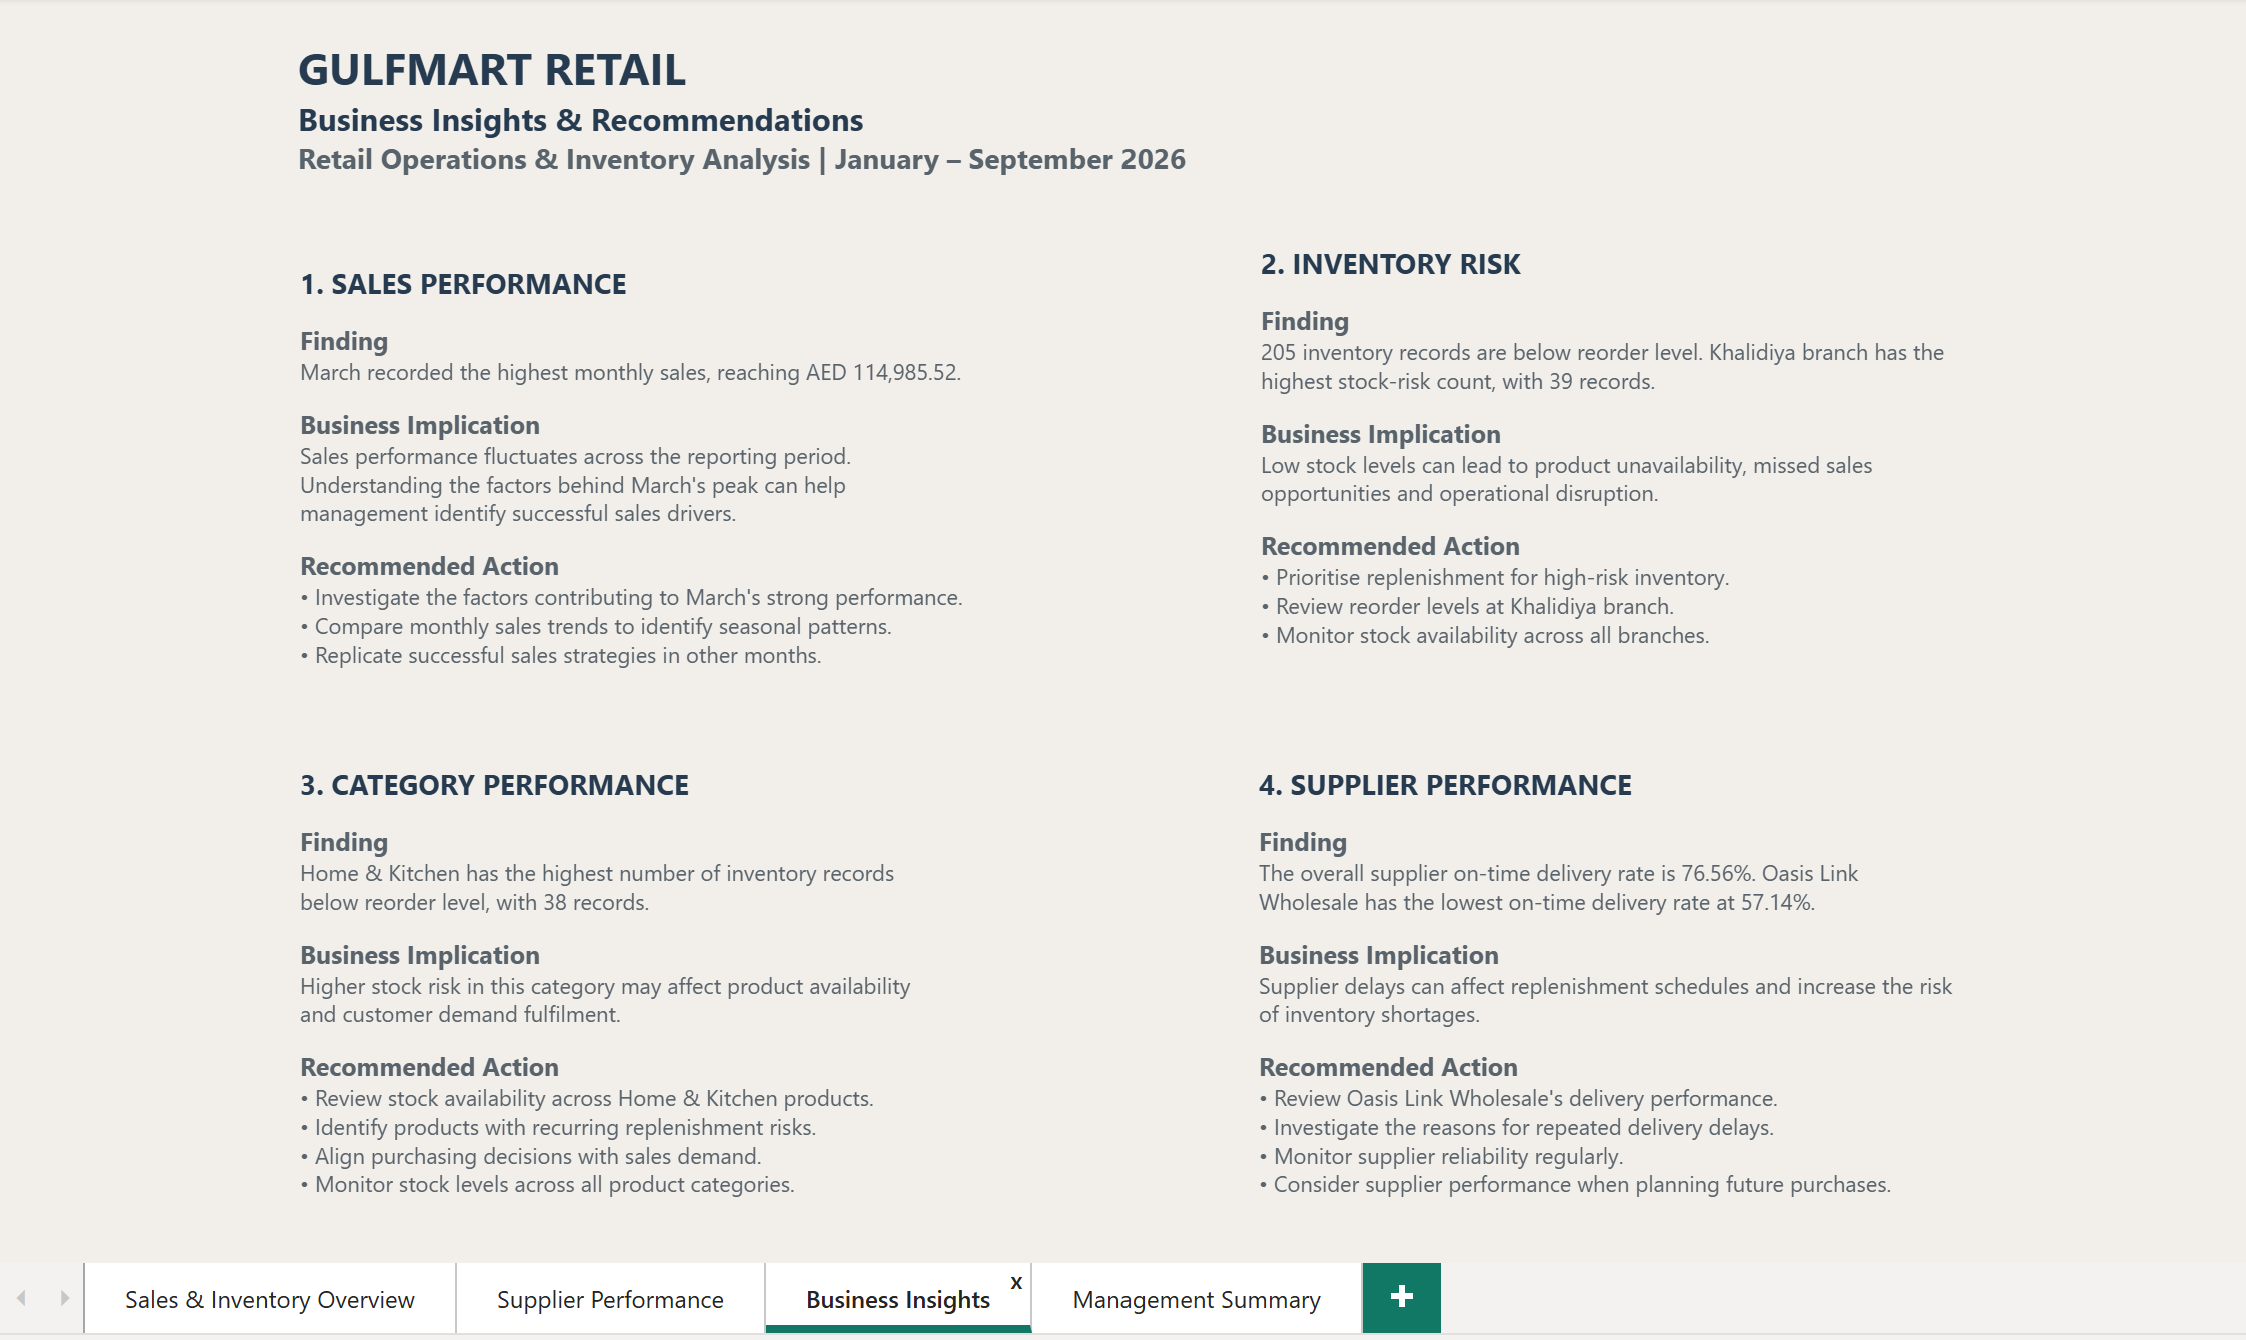

What the dashboard file says about the page in this screenshot:
{"tool":"powerbi","page":{"name":"Business Insights","canvas":[1920,1080],"ordinal":2},"visuals":[{"type":"textbox","box":[254.1,36.5,1270.3,143.2],"z":0},{"type":"textbox","box":[255.3,228.3,569.4,354.1],"z":1000},{"type":"textbox","box":[1074.7,212.3,634.1,383.5],"z":2000},{"type":"textbox","box":[255.3,655.3,550.6,390.6],"z":3000},{"type":"textbox","box":[1073.7,655.3,597.6,390.6],"z":4000}]}

Visuals, with their boxes on the page's 1920x1080 design canvas (x1, y1, x2, y2). These are canvas units, not pixel positions in the 2246x1340 screenshot, which may show the page scaled, cropped or inside an application window:
textbox: bbox(254, 36, 1524, 180)
textbox: bbox(255, 228, 825, 582)
textbox: bbox(1075, 212, 1709, 596)
textbox: bbox(255, 655, 806, 1046)
textbox: bbox(1074, 655, 1671, 1046)
